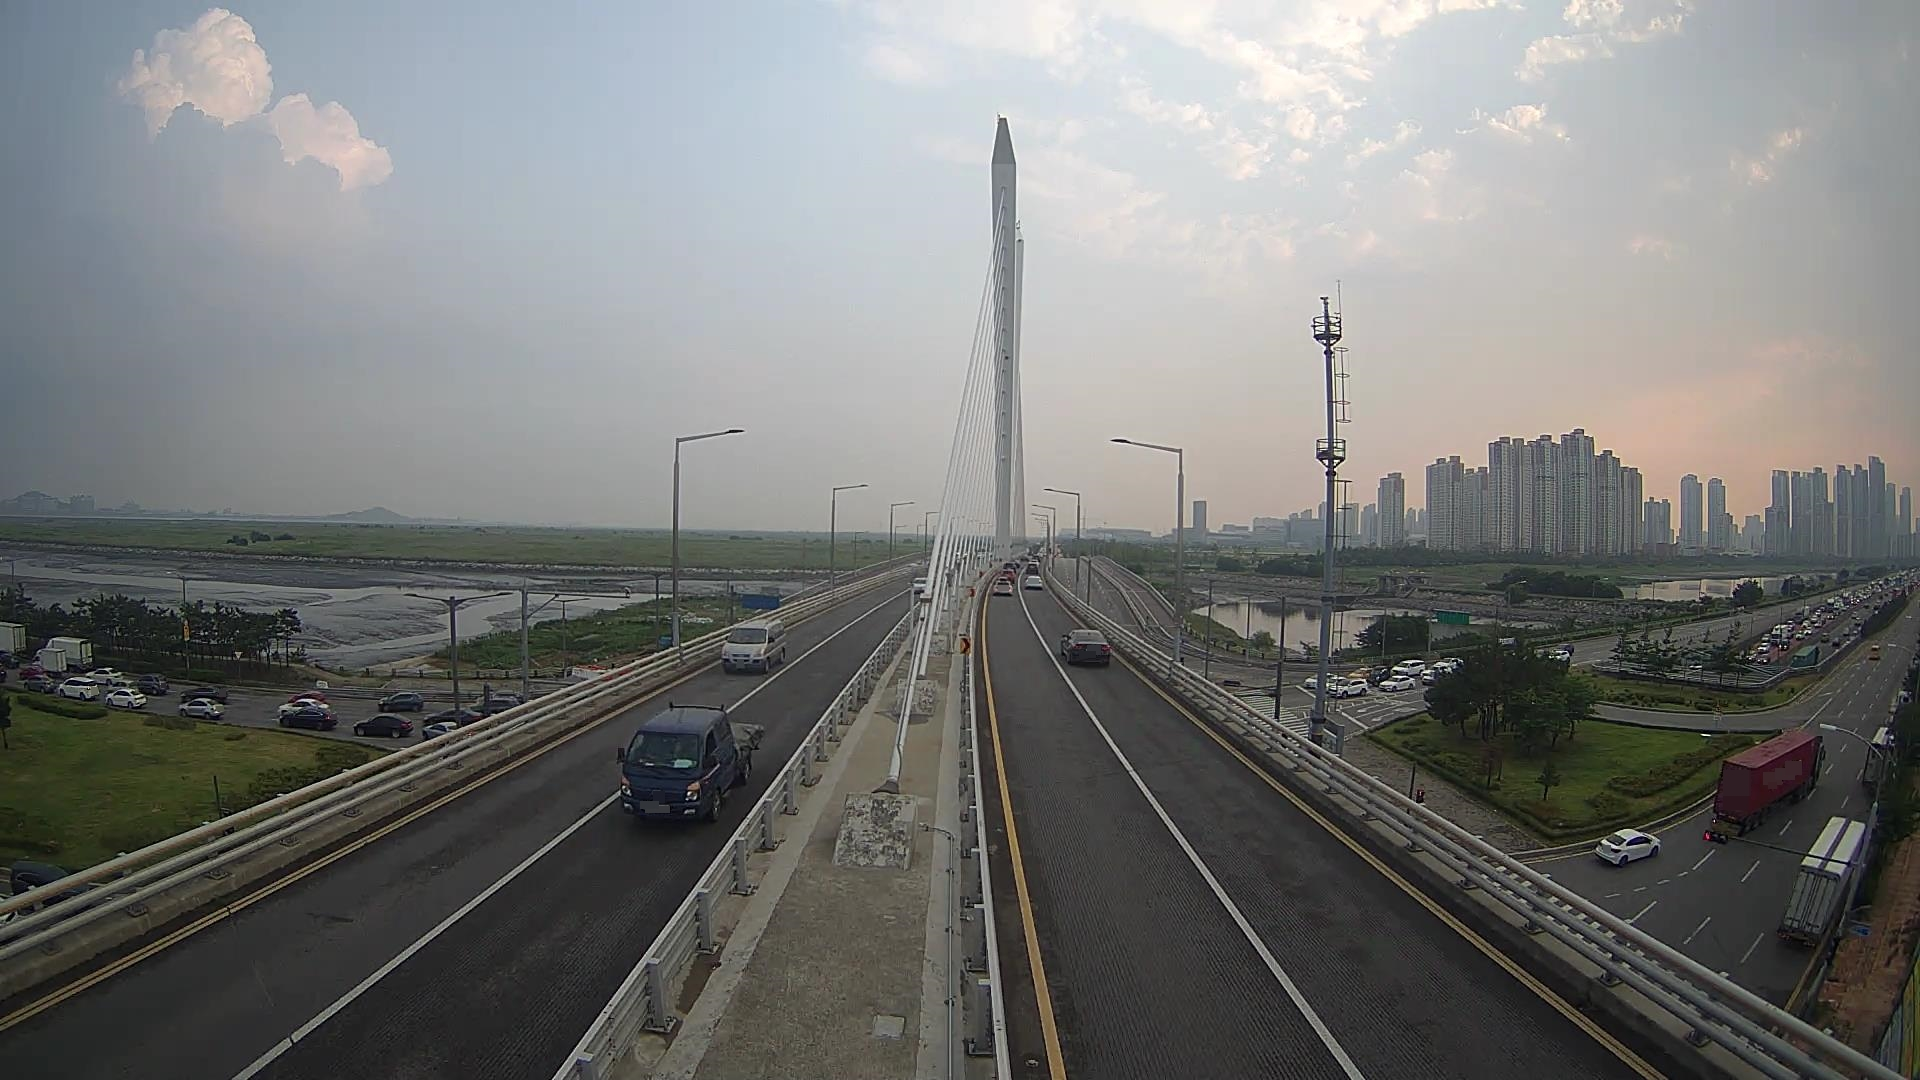정상차량: (617, 703, 763, 824)
